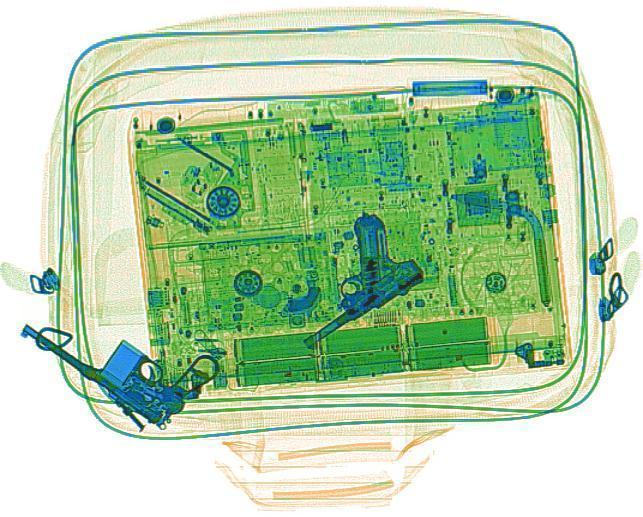Gun: (12, 272, 233, 432), (240, 207, 442, 352)
